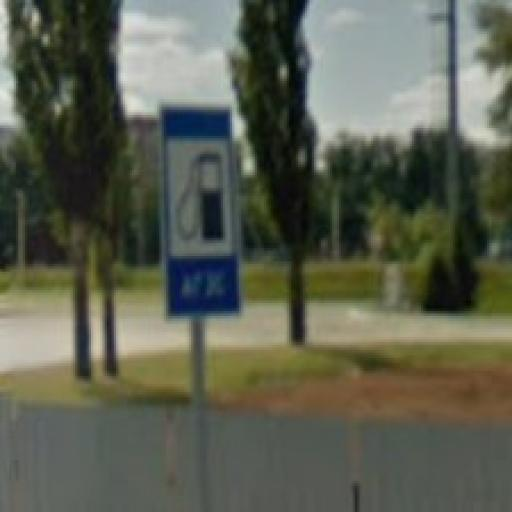traffic_sign: (158, 103, 244, 320)
